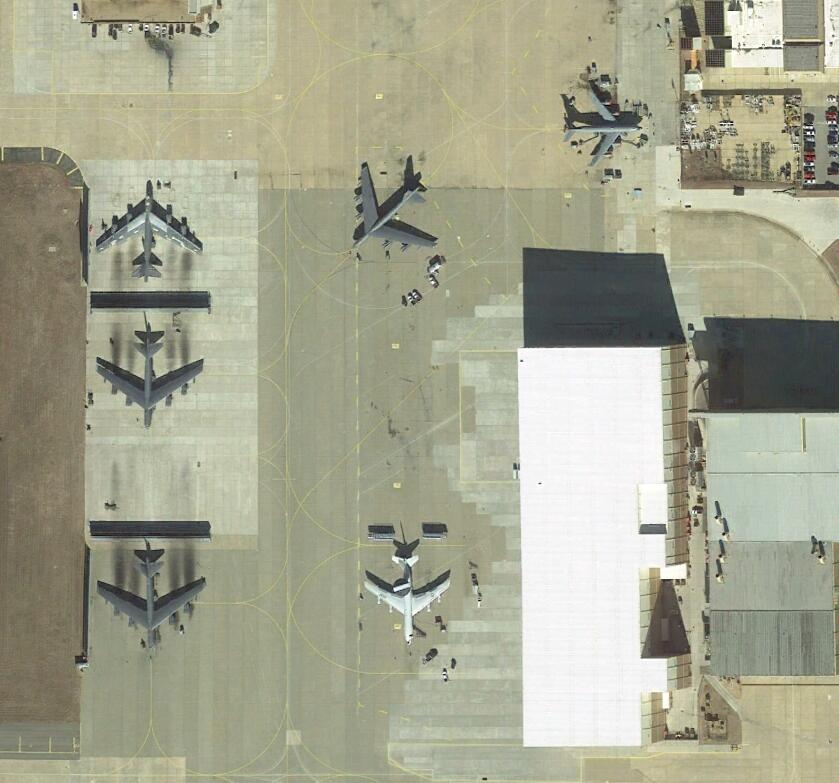A14: (562, 88, 644, 171)
A7: (365, 553, 455, 648)
A8: (97, 557, 207, 656), (95, 338, 206, 432), (98, 191, 207, 281), (348, 162, 437, 251)
